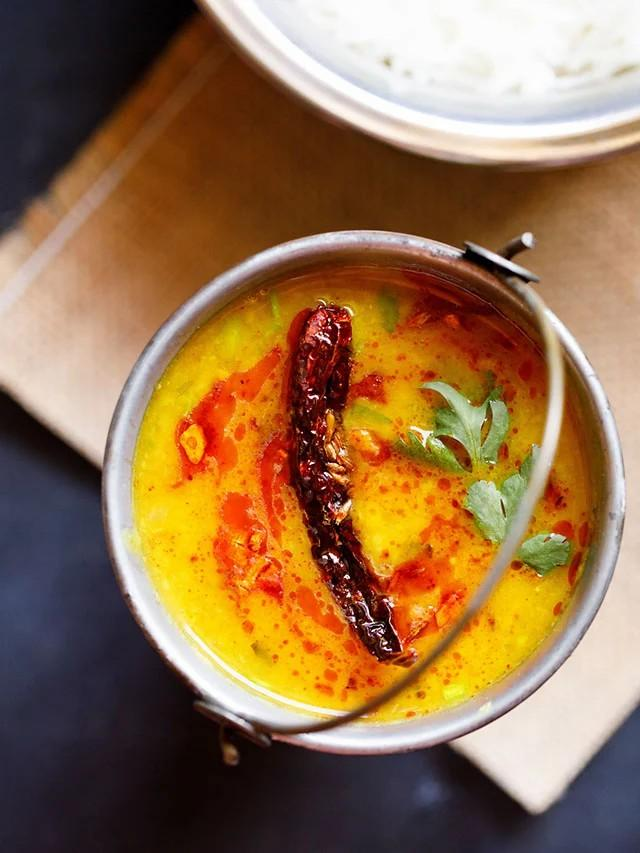Dal: (137, 272, 589, 718)
